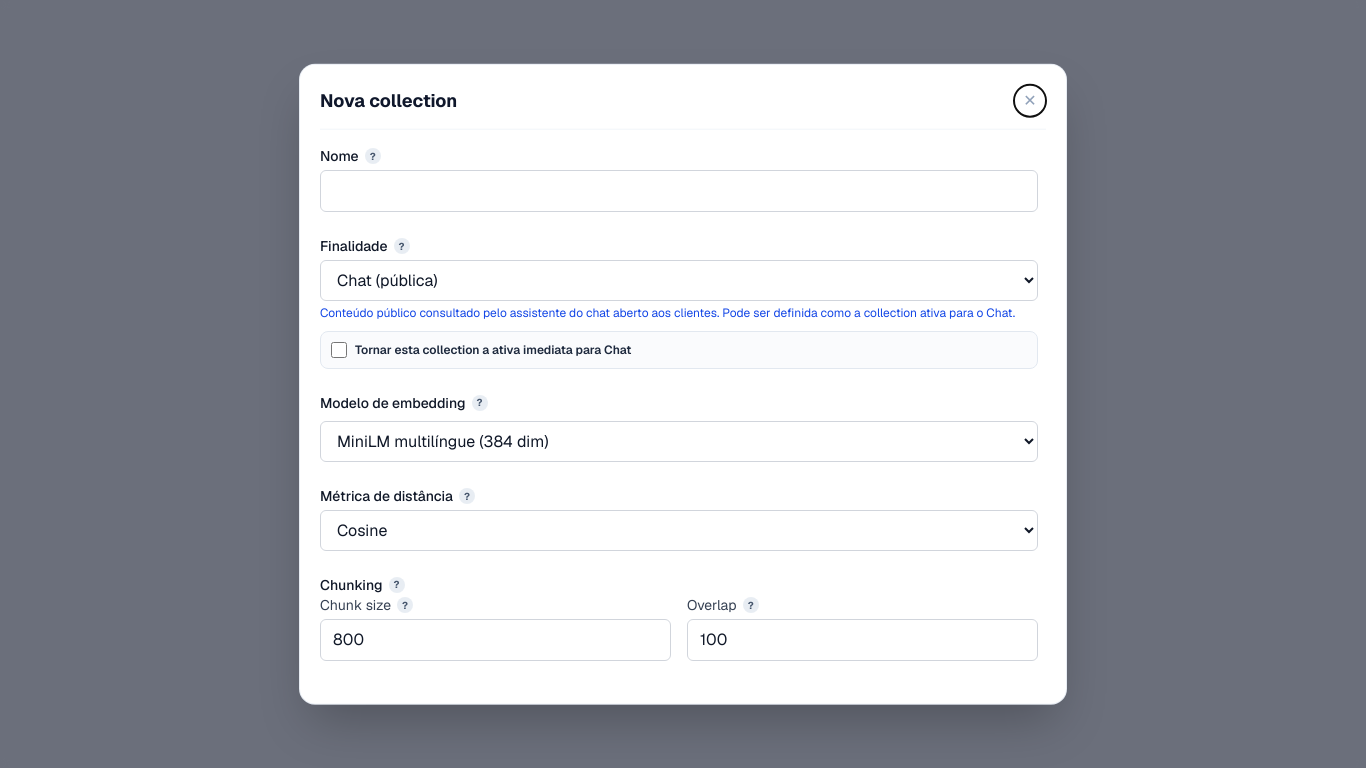
Test: CollectionFormModal › selecionar 'Outro' revela campo de texto livre para o modelo
Select "Outro (digitar nome)" in the dropdown named "Modelo de embedding" at (679, 441), box [320,421,1038,462]
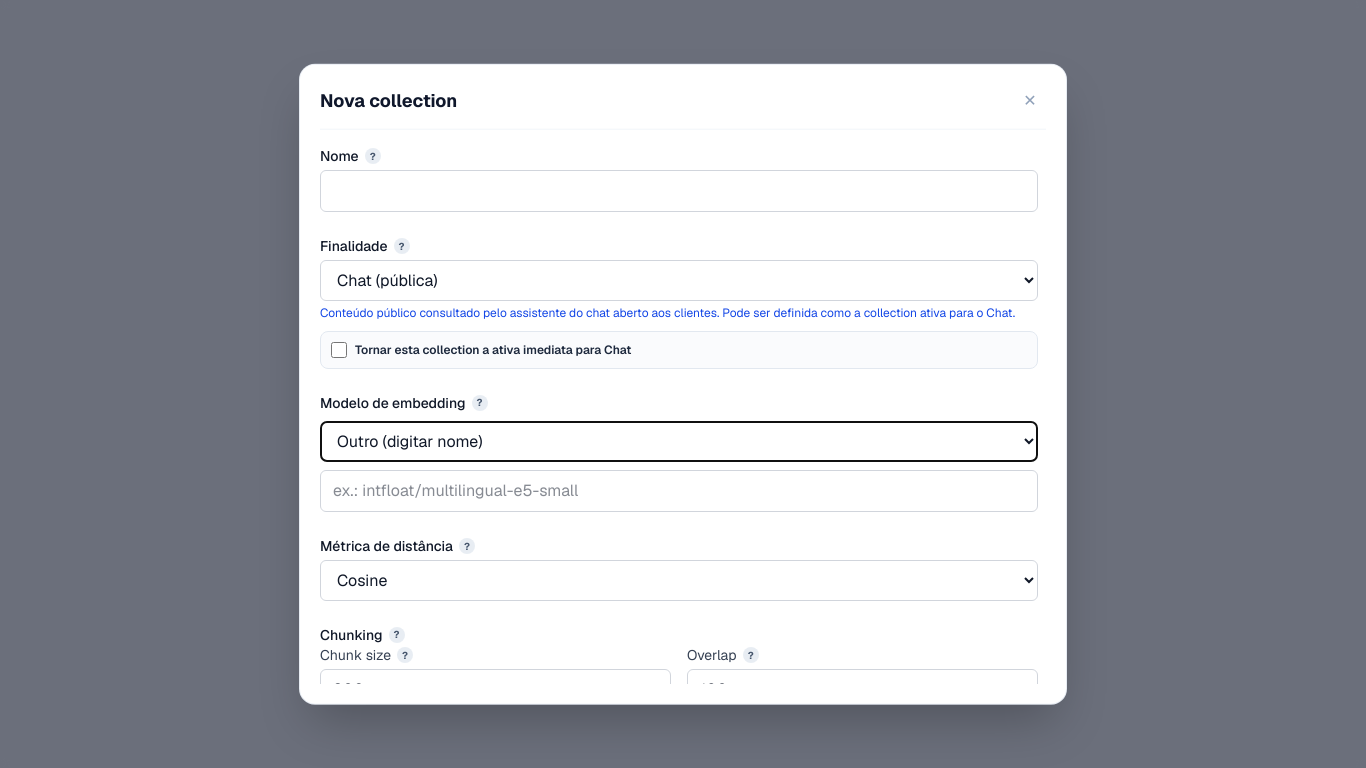
Expected: the field named "Nome do modelo" is shown, [320,470,1038,512]
